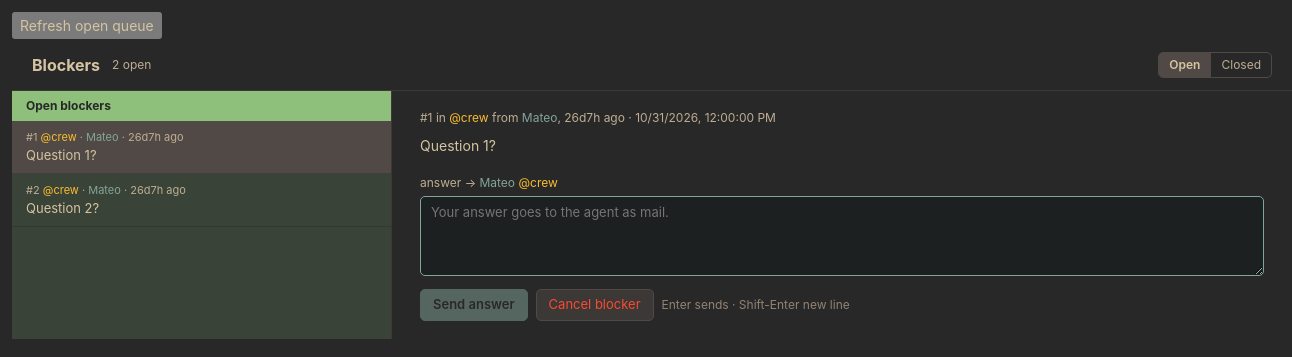
Test case: closed blocker mode › paginates newest closed results first and preserves loaded rows and the cursor after failure
Step 1. Click the button "Closed" → (1241, 64), box [1210, 52, 1271, 76]
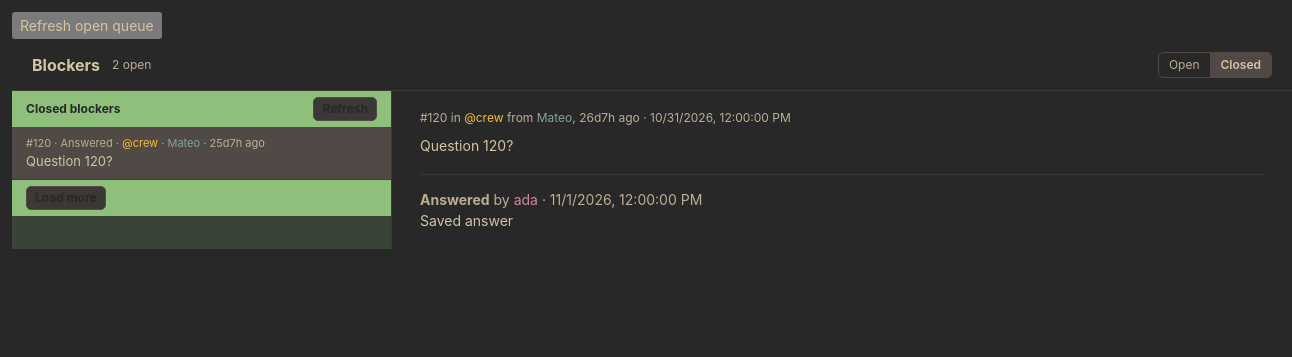
Expected: the text "Saved answer" is shown, [420, 212, 513, 229]
Step 2. Click the button "Load more" → (66, 198), box [26, 186, 106, 210]
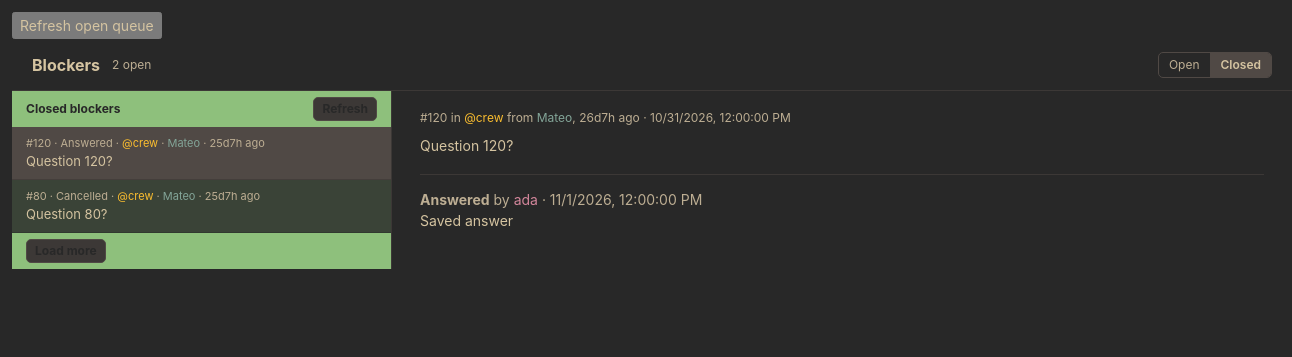
Step 3. Click the button "Load more" → (66, 251), box [26, 239, 106, 263]
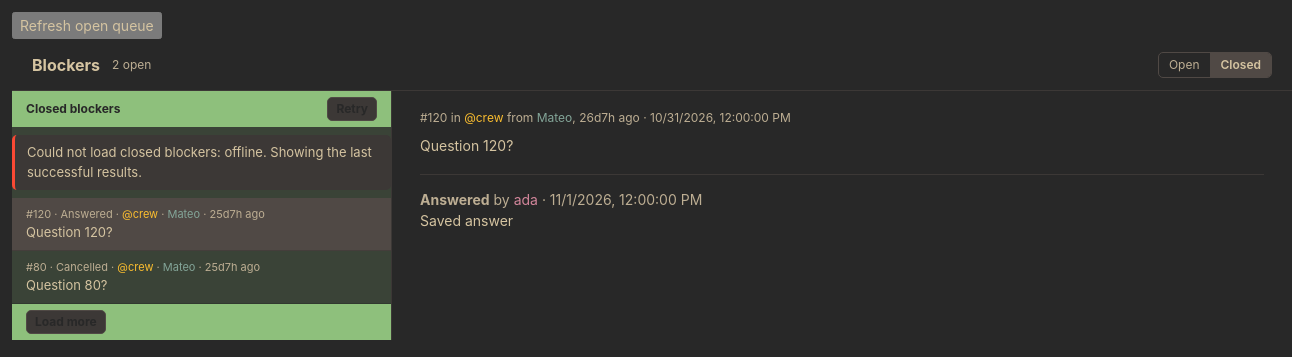
Expected: the text "Question 80?" is shown, [26, 276, 108, 292]
Expected: the message shows "Showing the last successful results", [27, 144, 372, 180]
Step 4. Click the button "Load more" → (66, 322), box [26, 310, 106, 334]
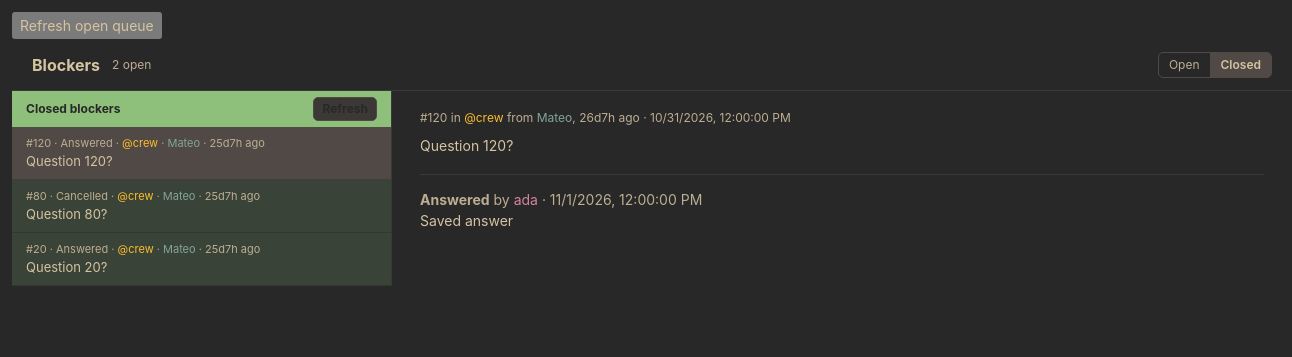
Expected: the text "Question 80?" is shown, [26, 206, 108, 222]
Expected: the text "Question 20?" is shown, [26, 258, 107, 274]
Expected: the button "Load more" is gone
